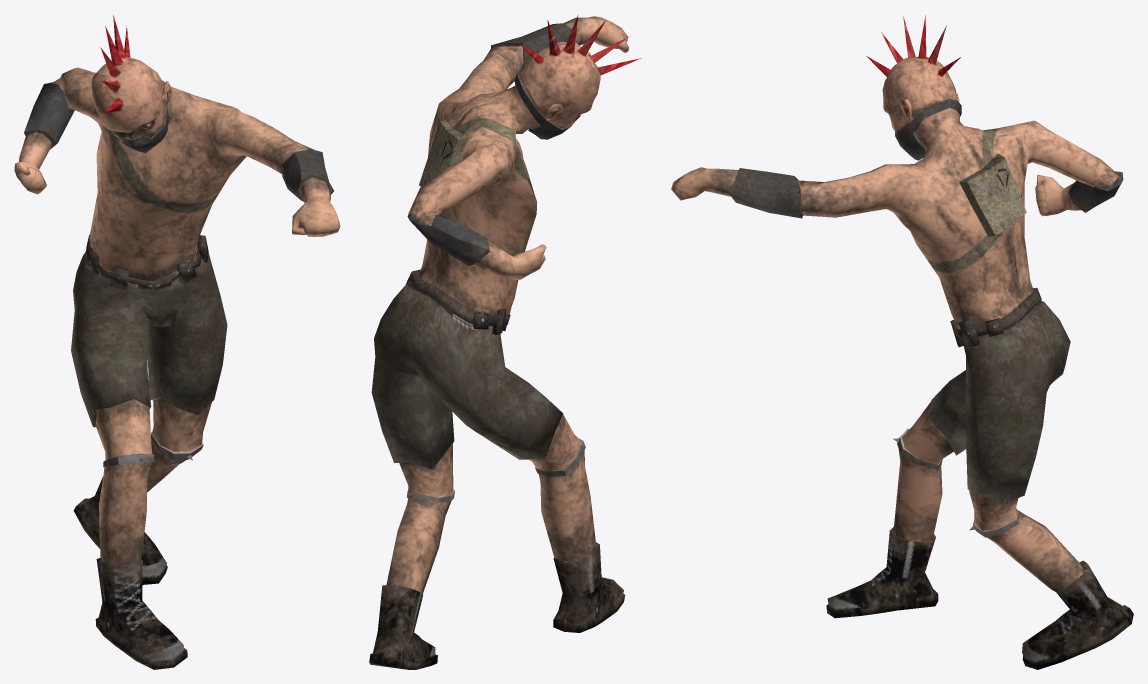
The model's file is Anim_ataque_d2_npc2.0035.obj.
3 views of the same model, side by side, from view 1: azimuth 30°, elevation 25°; view 2: azimuth 150°, elevation 25°; view 3: azimuth 270°, elevation 25° (orthographic). The views are drawn at different scales.
Visible parts, largest first — view 1: polySurface1; view 2: polySurface1; view 3: polySurface1.
Boxes of the visible parts, x1,y1,x2,y2 form: polySurface1: (14,15,340,669); polySurface1: (369,15,641,669); polySurface1: (671,15,1133,669).
Bounding box in the file's own units: 2.86 × 9.21 × 6.41.
